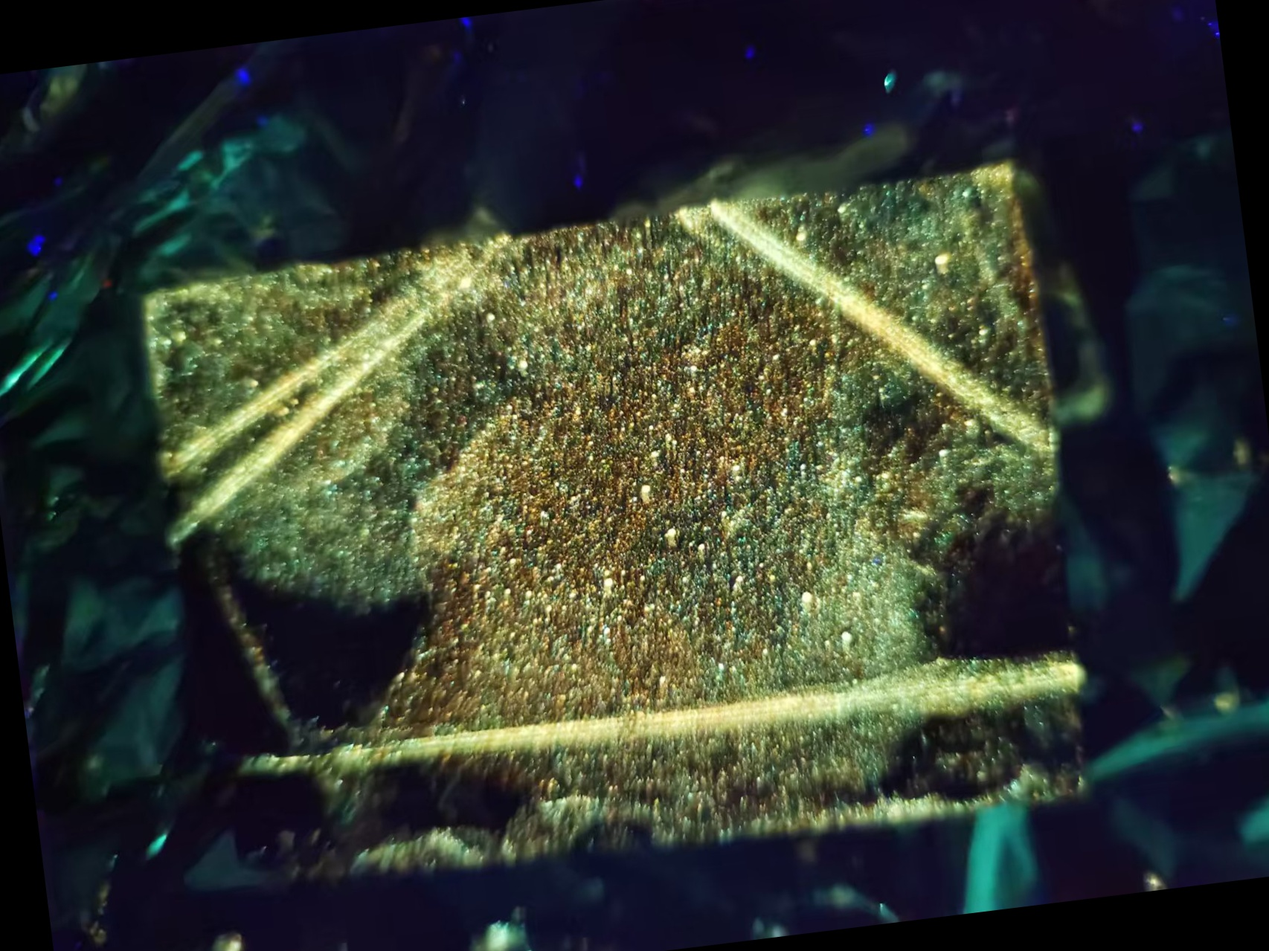Fissure: (190, 625, 1108, 841), (664, 156, 1058, 495), (113, 237, 544, 546)
